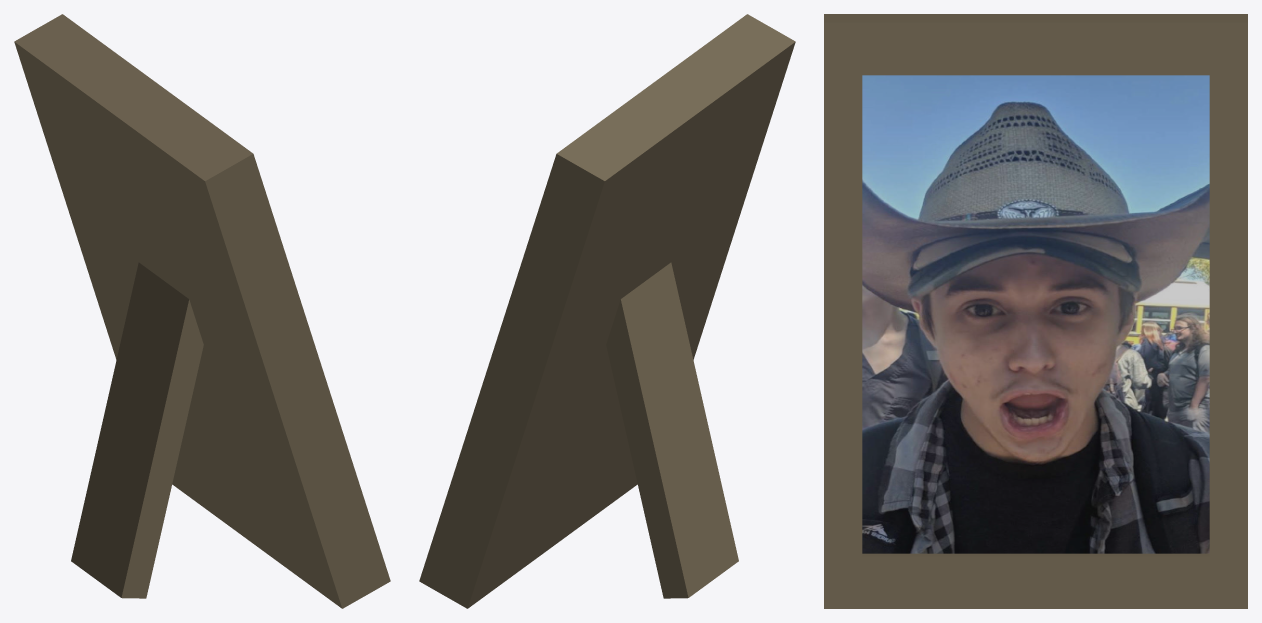
The model's file is CameronFrame.fbx.
3 views of the same model, side by side, from view 1: azimuth 30°, elevation 25°; view 2: azimuth 150°, elevation 25°; view 3: azimuth 270°, elevation 25° (orthographic). The views are drawn at different scales.
Visible parts, largest first — view 1: pCube3; view 2: pCube3; view 3: pCube3.
Boxes of the visible parts, <box> form: pCube3: <box>14,14,390,608</box>; pCube3: <box>419,14,795,608</box>; pCube3: <box>824,14,1247,608</box>.
Size of the model in its own units: 0.7127 by 1.67 by 1.18.
